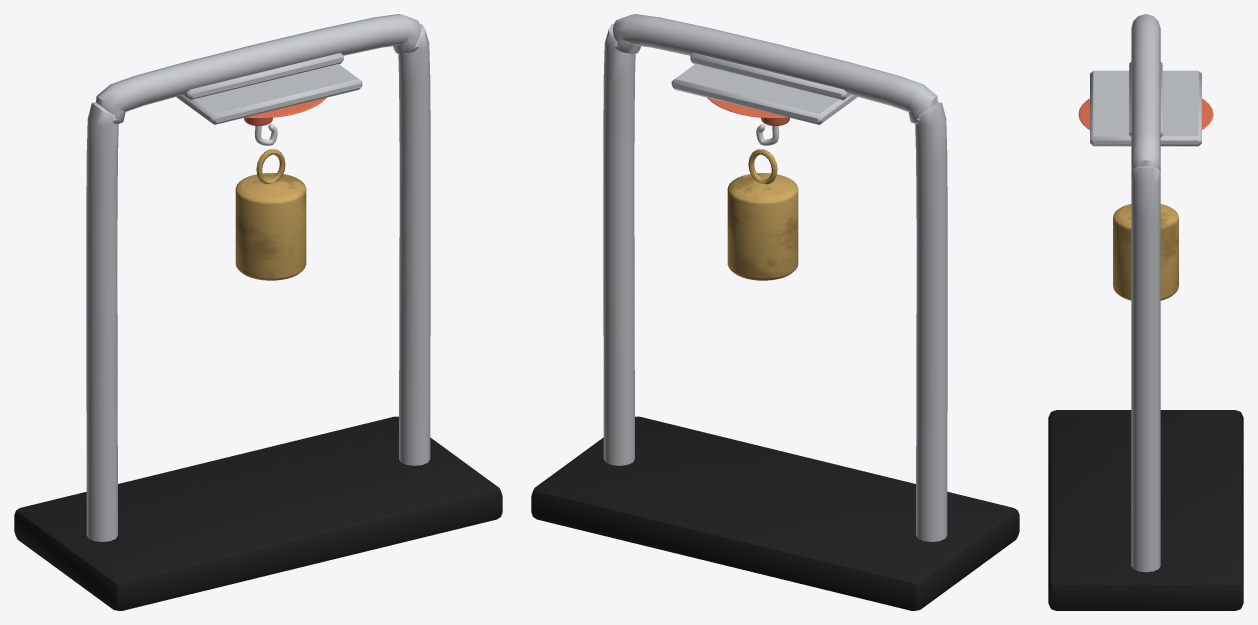
The model's file is suction.glb.
3 renders of one model, left to right at view 1: azimuth 30°, elevation 25°; view 2: azimuth 150°, elevation 25°; view 3: azimuth 270°, elevation 25°, orthographic. The views are drawn at different scales.
Visible parts, largest first — view 1: stand_base, stand_arch, weight, cup; view 2: stand_base, stand_arch, weight, cup; view 3: stand_base, stand_arch, weight, cup.
Boxes of the visible parts, x1,y1,x2,y2 form: stand_base: (14,416,502,610); stand_arch: (86,14,430,541); weight: (235,149,306,280); cup: (244,97,326,125); stand_base: (531,416,1019,610); stand_arch: (603,14,947,541); weight: (727,149,798,280); cup: (707,97,789,125); stand_base: (1048,410,1243,610); stand_arch: (1090,14,1201,572); weight: (1113,204,1178,300); cup: (1078,98,1213,129).
Bounding box in the file's own units: 0.15 × 0.1779 × 0.07.
5 materials, 1 textured.
